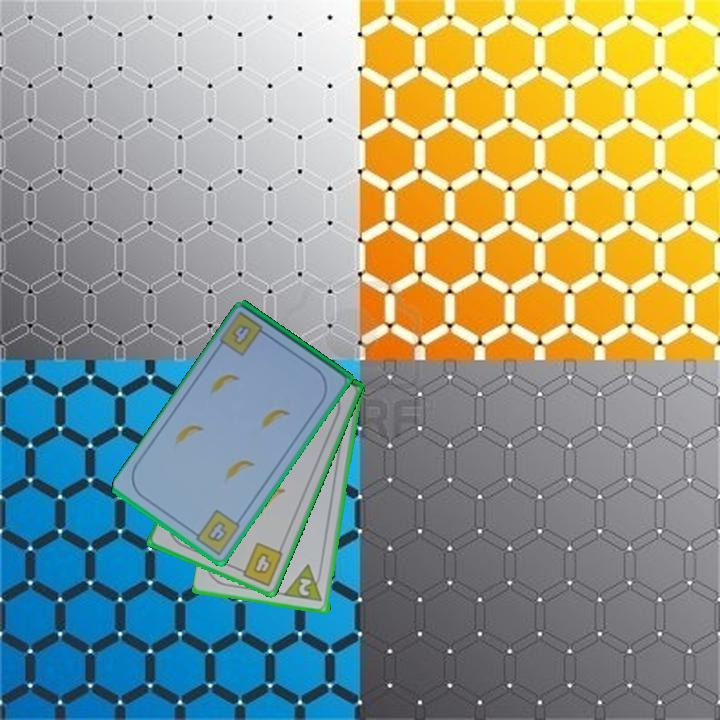2p: (282, 562, 326, 605)
4b: (188, 506, 243, 558), (233, 539, 286, 589), (228, 321, 255, 348)
